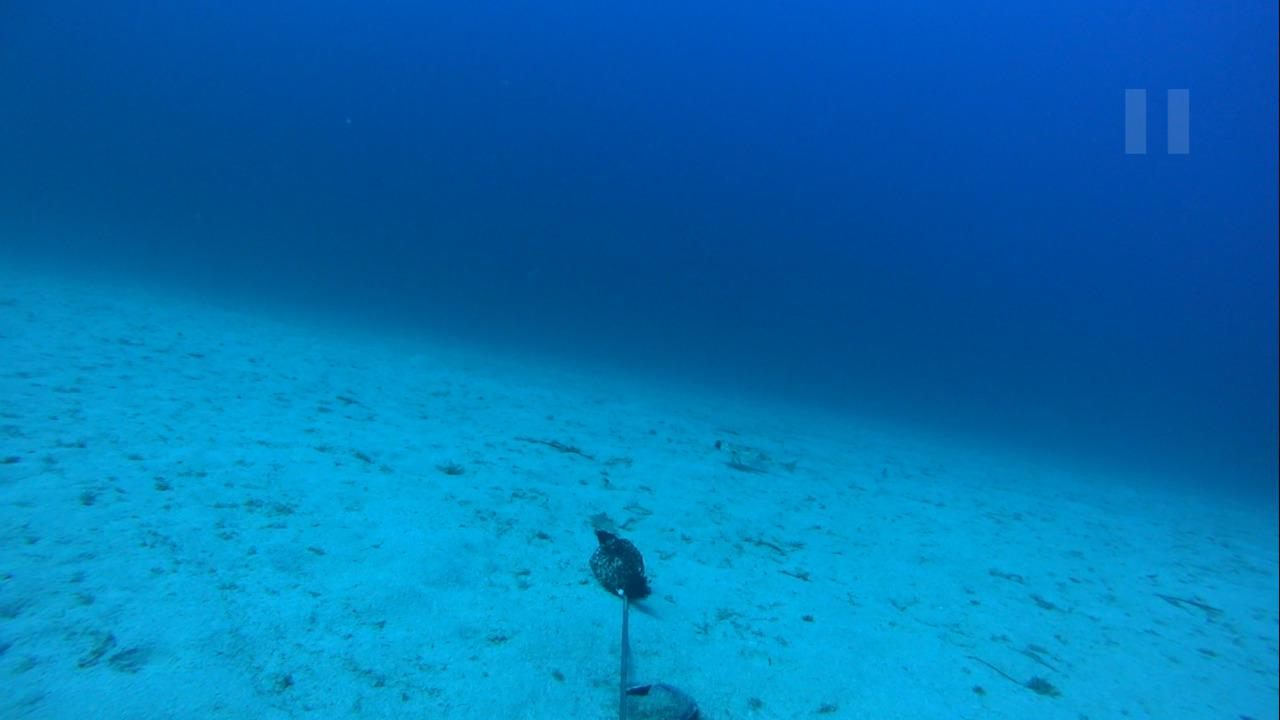dactylopterus: (706, 433, 792, 480)
